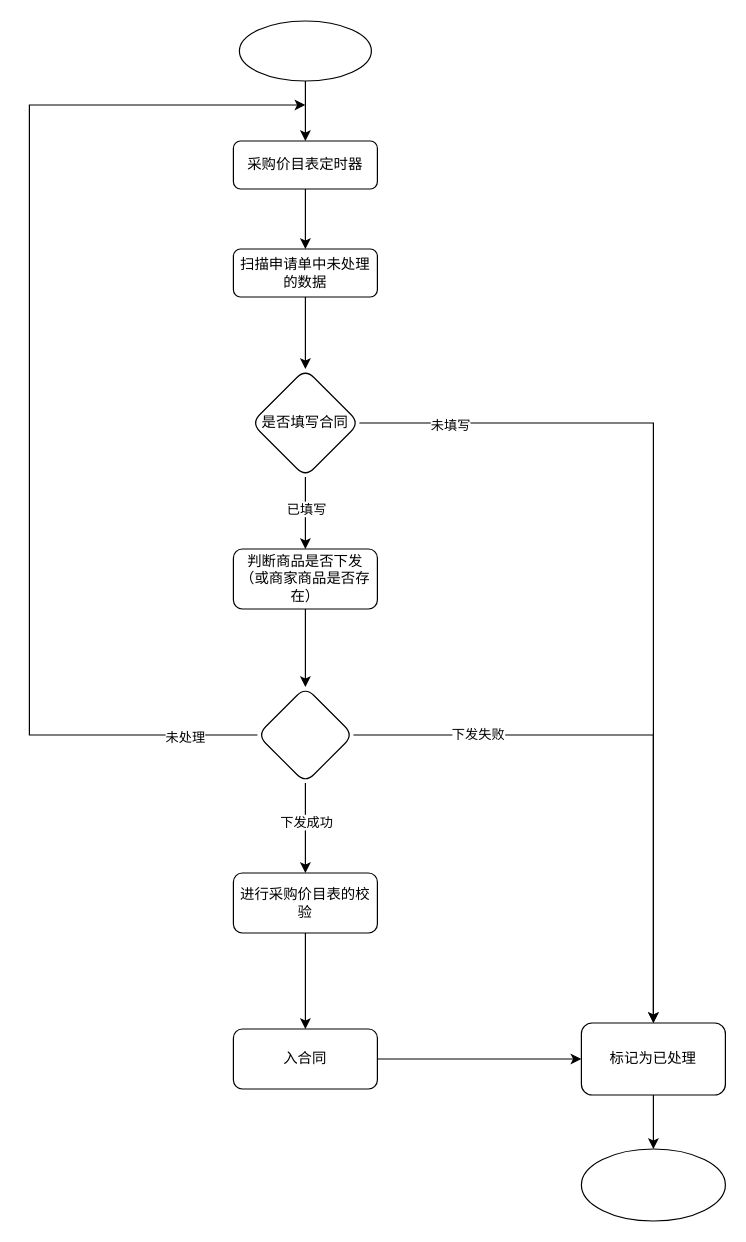
Some shapes in this 746 by 1242 pixel diagram are drawn without their labels. The shapes that lost their labels are listed below. From the top down, each one's centre as x and y in pixels, then its label:
(304,50): 开始
(304,734): 下发状态
(652,1184): 结束
